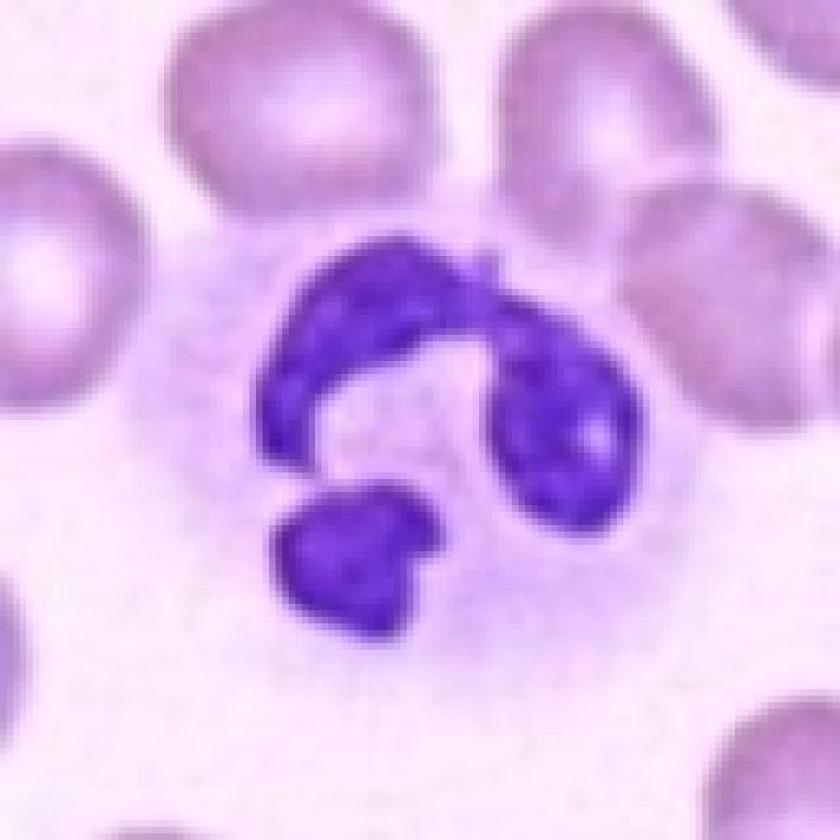neutrophil: (104, 201, 718, 699)
